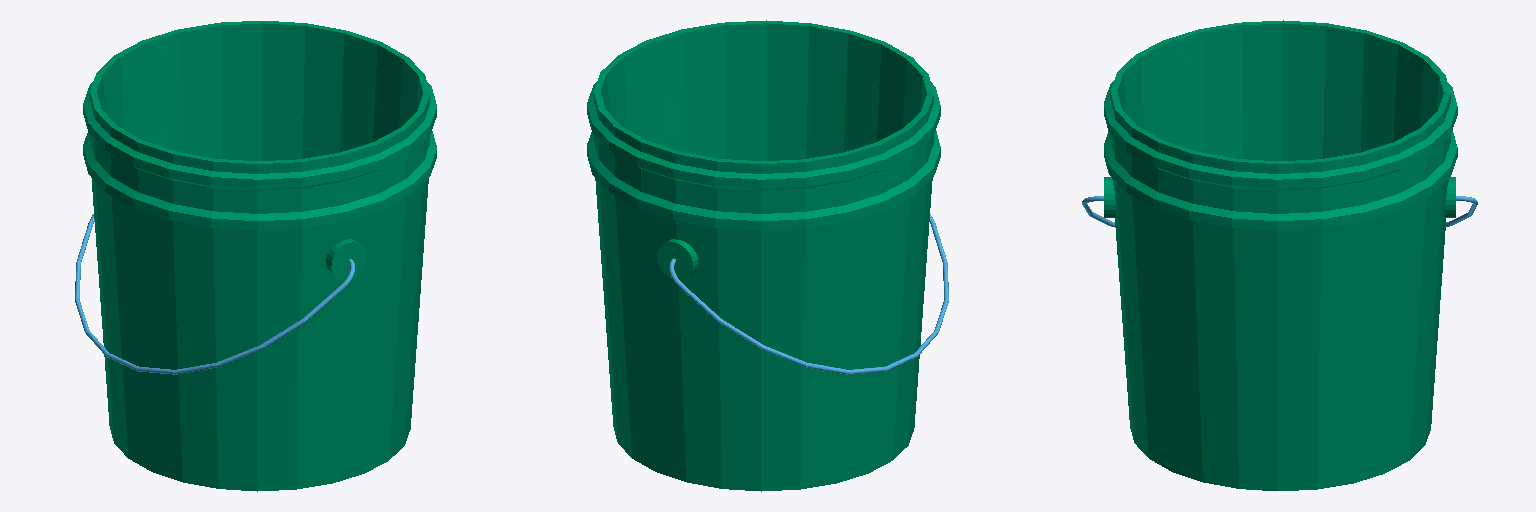
The robot description file, URDF, robot "partnet_9baa0eed7aab576801550504988680c":
<?xml version="1.0" ?>
<robot name="partnet_9baa0eed7aab576801550504988680c">
	<link name="base"/>
	<link name="link_0">
		<visual name="handle-1">
			<origin xyz="0 -0.30933643341174605 0.03964804590912532"/>
			<geometry>
				<mesh filename="textured_objs/original-2.obj"/>
			</geometry>
		</visual>
		<collision>
			<origin xyz="0 -0.30933643341174605 0.03964804590912532"/>
			<geometry>
				<mesh filename="textured_objs/original-2.obj"/>
			</geometry>
		</collision>
	</link>
	<joint name="joint_0" type="revolute">
		<origin xyz="0 0.30933643341174605 -0.03964804590912532"/>
		<axis xyz="-1 0 0"/>
		<child link="link_0"/>
		<parent link="link_1"/>
		<limit lower="-0.10681415022205297" upper="4.580442088933919"/>
	</joint>
	<link name="link_1">
		<visual name="base_body-2">
			<origin xyz="0 0 0"/>
			<geometry>
				<mesh filename="textured_objs/original-1.obj"/>
			</geometry>
		</visual>
		<collision>
			<origin xyz="0 0 0"/>
			<geometry>
				<mesh filename="textured_objs/original-1.obj"/>
			</geometry>
		</collision>
	</link>
	<joint name="joint_1" type="fixed">
		<origin rpy="1.570796326794897 0 -1.570796326794897" xyz="0 0 0"/>
		<child link="link_1"/>
		<parent link="base"/>
	</joint>
</robot>

--- Facts derived from the render (not from the file) ---
Views: 3 orthographic renders of the robot side by side, from view 1: azimuth 30°, elevation 25°; view 2: azimuth 150°, elevation 25°; view 3: azimuth 270°, elevation 25°.
Robot: partnet_9baa0eed7aab576801550504988680c — 3 links, 2 joints (1 revolute, 1 fixed); root link base; default pose: all joints at 0.
Links seen in each view (by area): view 1: link_1, link_0; view 2: link_1, link_0; view 3: link_1, link_0.
Boxes of the visible links, bbox=[...] form: link_1: bbox=[83, 21, 436, 491]; link_0: bbox=[75, 214, 354, 374]; link_1: bbox=[587, 20, 940, 491]; link_0: bbox=[669, 214, 948, 374]; link_1: bbox=[1104, 20, 1457, 490]; link_0: bbox=[1082, 196, 1477, 227].
Bounding box of the posed robot: 1.35 × 1.51 × 1.41 m (x, y, z).
2 mesh visuals loaded from 2 distinct referenced files (2 OBJ).
